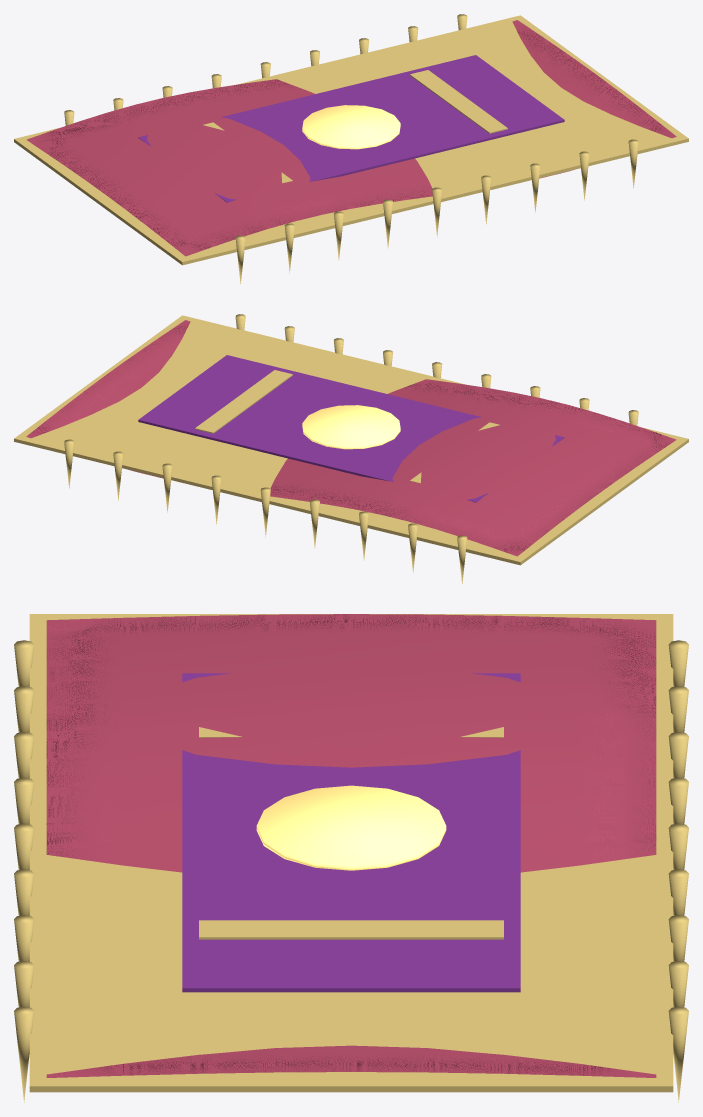
Rendered from MagicCarpet.glb.
The picture shows the model from 3 angles, top to bottom: view 1: azimuth 30°, elevation 25°; view 2: azimuth 150°, elevation 25°; view 3: azimuth 270°, elevation 25°; orthographic projection. The views are drawn at different scales.
Parts seen in each view (by area): view 1: Rug, Border, Field, Medallion, Band.001; view 2: Rug, Border, Field, Medallion, Band.001; view 3: Rug, Border, Field, Medallion, Band.001, TasselBack.008, TasselFront.008, TasselBack.001, TasselFront.001, TasselBack.006, TasselFront.006, TasselBack.002 (+11 smaller).
Part boxes in pixels (box(x1,y1,x2,y2)): Rug: box(26, 20, 676, 256); Border: box(14, 15, 688, 265); Field: box(138, 55, 564, 202); Medallion: box(302, 105, 400, 149); Band.001: box(410, 70, 507, 133); Rug: box(26, 320, 676, 556); Border: box(14, 315, 688, 565); Field: box(138, 355, 564, 502); Medallion: box(302, 405, 400, 449); Band.001: box(195, 370, 292, 433); Rug: box(46, 614, 656, 1077); Border: box(29, 614, 673, 1092); Field: box(182, 673, 520, 992); Medallion: box(256, 785, 446, 870); Band.001: box(199, 920, 503, 939); TasselBack.008: box(14, 1006, 34, 1102); TasselFront.008: box(668, 1006, 688, 1102); TasselBack.001: box(14, 686, 34, 732); TasselFront.001: box(668, 686, 688, 732); TasselBack.006: box(14, 915, 34, 961); TasselFront.006: box(668, 915, 688, 961); TasselBack.002: box(14, 732, 34, 778).
Size of the model in its own units: 4.95 by 0.46 by 2.99.
